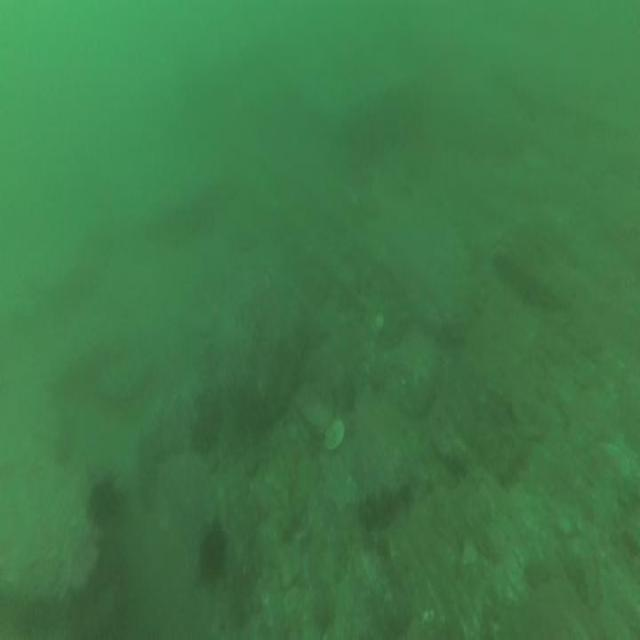echinus: (200, 534, 227, 577), (89, 482, 116, 521)
scallop: (324, 421, 346, 454), (372, 316, 384, 333)
